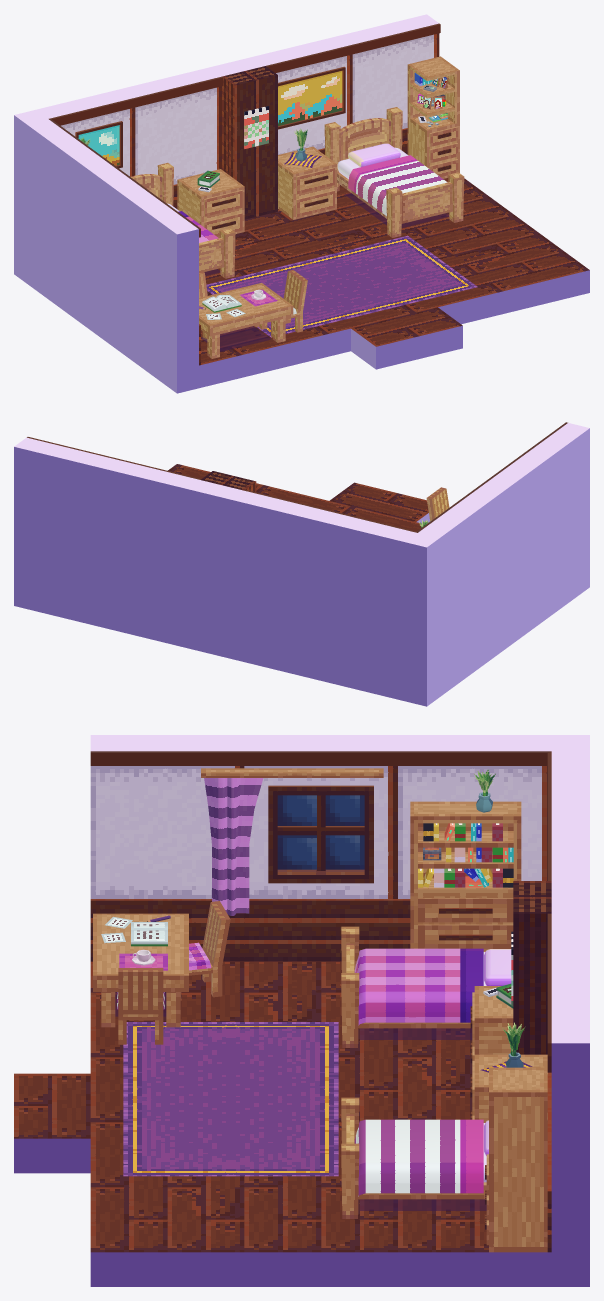
3 views of the same model, one above another, from view 1: azimuth 30°, elevation 25°; view 2: azimuth 150°, elevation 25°; view 3: azimuth 270°, elevation 25° (orthographic). The views are drawn at different scales.
Parts seen in each view (by area): view 1: wall, floor, carpet, pillar, shelf_B, dresser_B, painting_B, dresser_A, table, blanket, bottom (×2), head (+10 smaller); view 2: wall, floor, pillar, chair_01; view 3: wall, floor, carpet, blanket (×2), shelf_A, shelf_B, window, pillar, curtain, table, chair_01, corner_00 (×2) (+9 smaller).
Part boxes in pixels (bbox=[...]): wall: bbox=[14, 14, 440, 393]; floor: bbox=[199, 178, 589, 388]; carpet: bbox=[206, 235, 477, 337]; pillar: bbox=[222, 66, 277, 219]; shelf_B: bbox=[407, 56, 459, 178]; dresser_B: bbox=[278, 146, 336, 219]; painting_B: bbox=[278, 66, 345, 129]; dresser_A: bbox=[177, 169, 244, 237]; table: bbox=[199, 283, 293, 358]; blanket: bbox=[348, 155, 447, 215]; bottom (×2): bbox=[199, 182, 452, 271]; head: bbox=[340, 118, 391, 160]; wall: bbox=[14, 422, 589, 706]; floor: bbox=[168, 464, 430, 531]; pillar: bbox=[201, 471, 256, 492]; chair_01: bbox=[426, 487, 449, 521]; wall: bbox=[90, 735, 589, 1286]; floor: bbox=[14, 961, 551, 1286]; carpet: bbox=[123, 1022, 338, 1176]; blanket (×2): bbox=[354, 948, 483, 1196]; shelf_A: bbox=[410, 801, 521, 951]; shelf_B: bbox=[485, 1067, 547, 1252]; window: bbox=[268, 785, 373, 883]; pillar: bbox=[513, 881, 551, 1054]; curtain: bbox=[204, 778, 263, 915]; table: bbox=[93, 913, 188, 1027]; chair_01: bbox=[117, 968, 164, 1044]; corner_00 (×2): bbox=[341, 973, 359, 1218].
Size of the model in its own units: 9.5 by 3.5 by 7.5.
5 materials, 4 textured.
